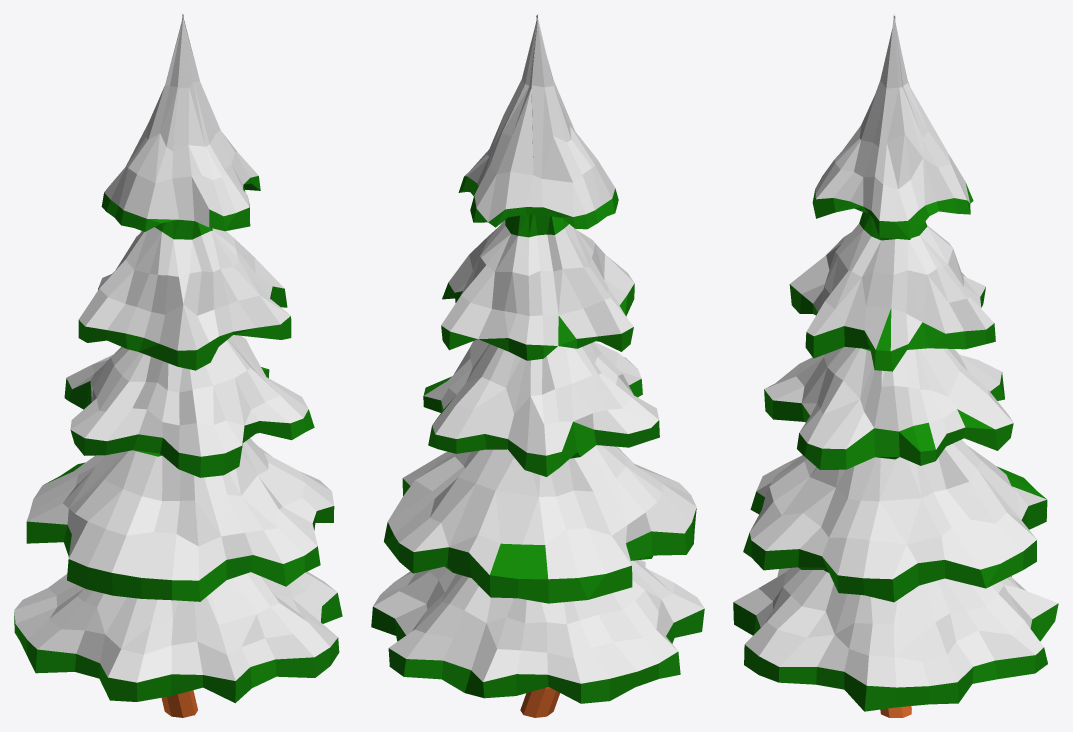
Rendered from Tree_2.fbx.
3 renders of one model, left to right at view 1: azimuth 30°, elevation 25°; view 2: azimuth 150°, elevation 25°; view 3: azimuth 270°, elevation 25°, orthographic.
Parts seen in each view (by area): view 1: _8_tree; view 2: _8_tree; view 3: _8_tree.
Part boxes in pixels (x1,y1,x2,y2): _8_tree: [14, 14, 342, 717]; _8_tree: [371, 14, 704, 717]; _8_tree: [733, 14, 1058, 717].
Bounding box in the file's own units: 0.9411 × 2.16 × 0.9146.
